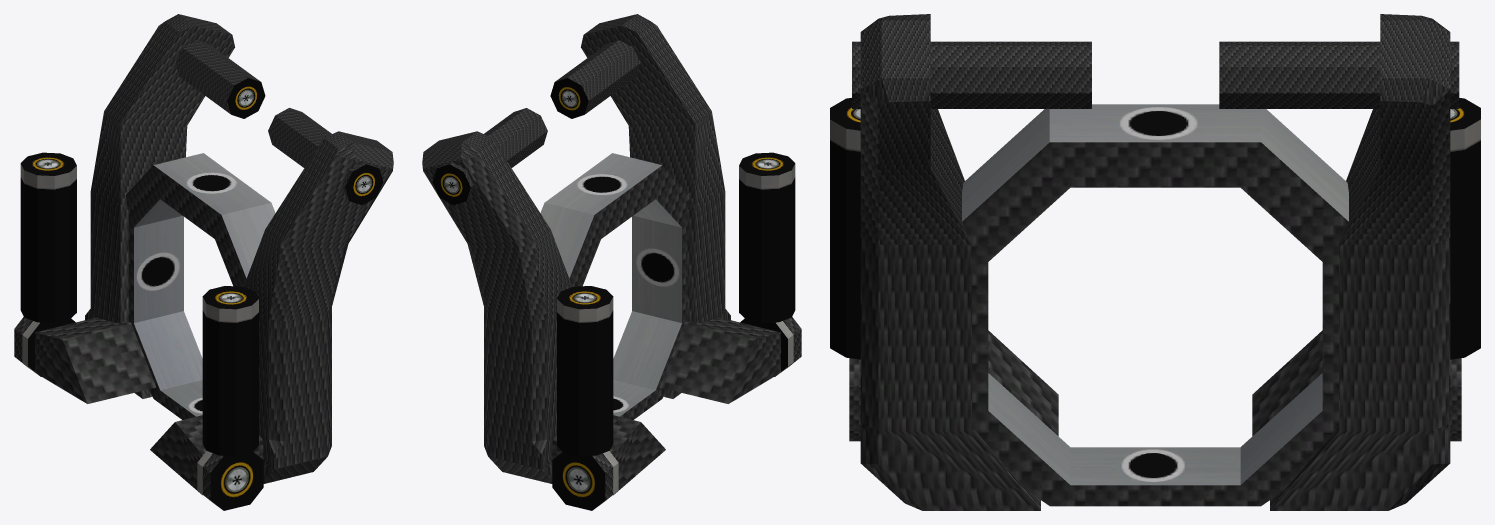
The model's file is K-WheelBase.fbx.
3 views of the same model, side by side, from view 1: azimuth 30°, elevation 25°; view 2: azimuth 150°, elevation 25°; view 3: azimuth 270°, elevation 25° (orthographic). The views are drawn at different scales.
Parts seen in each view (by area): view 1: SuspArmMount_A, WheelMountFrame, SuspArmMount_B, SuspDumperPistonBase_A, SuspDumperPistonBase_B, SuspDumperPistonMount_B, SuspArmAxis_B, SuspArmAxis_A, SuspDumperPistonBaseHing_A, SuspDumperPistonMount_A, SuspDumperPistonBaseHing_B; view 2: SuspArmMount_B, WheelMountFrame, SuspArmMount_A, SuspDumperPistonBase_B, SuspDumperPistonBase_A, SuspDumperPistonMount_A, SuspArmAxis_A, SuspArmAxis_B, SuspDumperPistonBaseHing_B, SuspDumperPistonMount_B, SuspDumperPistonBaseHing_A; view 3: WheelMountFrame, SuspArmMount_A, SuspArmMount_B, SuspArmAxis_B, SuspArmAxis_A, SuspDumperPistonBase_A, SuspDumperPistonBase_B, SuspDumperPistonMount_A, SuspDumperPistonMount_B, SuspDumperPistonBaseHing_A, SuspDumperPistonBaseHing_B.
Boxes of the visible parts, left/top/right/bottom form: SuspArmMount_A: left=243, top=131, right=393, bottom=483; WheelMountFrame: left=126, top=153, right=275, bottom=419; SuspArmMount_B: left=85, top=14, right=234, bottom=398; SuspDumperPistonBase_A: left=202, top=286, right=258, bottom=456; SuspDumperPistonBase_B: left=20, top=152, right=76, bottom=322; SuspDumperPistonMount_B: left=35, top=317, right=156, bottom=403; SuspArmAxis_B: left=175, top=40, right=265, bottom=118; SuspArmAxis_A: left=268, top=108, right=383, bottom=205; SuspDumperPistonBaseHing_A: left=197, top=451, right=263, bottom=510; SuspDumperPistonMount_A: left=150, top=415, right=263, bottom=495; SuspDumperPistonBaseHing_B: left=14, top=317, right=75, bottom=376; SuspArmMount_B: left=422, top=131, right=572, bottom=483; WheelMountFrame: left=540, top=153, right=689, bottom=419; SuspArmMount_A: left=581, top=14, right=730, bottom=398; SuspDumperPistonBase_B: left=557, top=286, right=613, bottom=456; SuspDumperPistonBase_A: left=739, top=152, right=795, bottom=322; SuspDumperPistonMount_A: left=659, top=317, right=780, bottom=403; SuspArmAxis_A: left=550, top=40, right=640, bottom=118; SuspArmAxis_B: left=432, top=108, right=547, bottom=205; SuspDumperPistonBaseHing_B: left=552, top=451, right=618, bottom=510; SuspDumperPistonMount_B: left=552, top=415, right=665, bottom=495; SuspDumperPistonBaseHing_A: left=740, top=317, right=801, bottom=376; WheelMountFrame: left=962, top=104, right=1348, bottom=506; SuspArmMount_A: left=860, top=14, right=1040, bottom=510; SuspArmMount_B: left=1270, top=14, right=1450, bottom=510; SuspArmAxis_B: left=1219, top=41, right=1459, bottom=108; SuspArmAxis_A: left=852, top=41, right=1091, bottom=108; SuspDumperPistonBase_A: left=830, top=98, right=860, bottom=359; SuspDumperPistonBase_B: left=1450, top=98, right=1480, bottom=359; SuspDumperPistonMount_A: left=988, top=330, right=1058, bottom=435; SuspDumperPistonMount_B: left=1252, top=330, right=1322, bottom=435; SuspDumperPistonBaseHing_A: left=849, top=358, right=860, bottom=441; SuspDumperPistonBaseHing_B: left=1450, top=358, right=1461, bottom=441.
Size of the model in its own units: 11.14 by 17.76 by 20.61.
